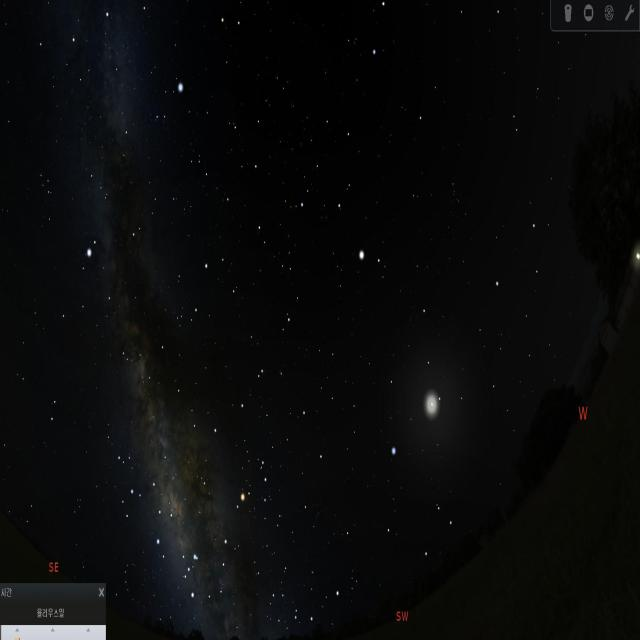aquila: (77, 211, 148, 371)
bootes: (314, 118, 396, 304)
lyra: (149, 68, 186, 136)
moon: (410, 362, 450, 438)
sagittarius: (117, 455, 179, 575)
scorpius: (178, 459, 274, 608)
